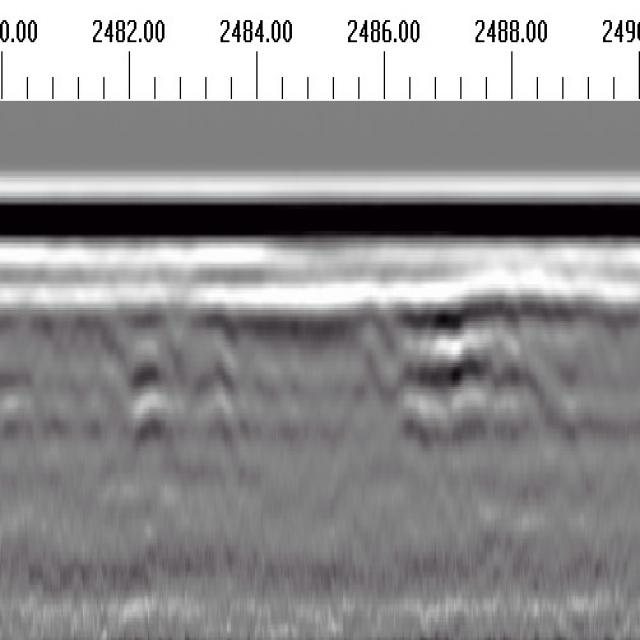loose: (371, 251, 572, 440), (102, 271, 255, 443)
